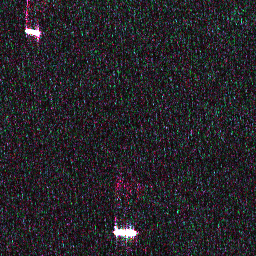ship: (112, 227, 139, 238), (22, 26, 41, 37)
